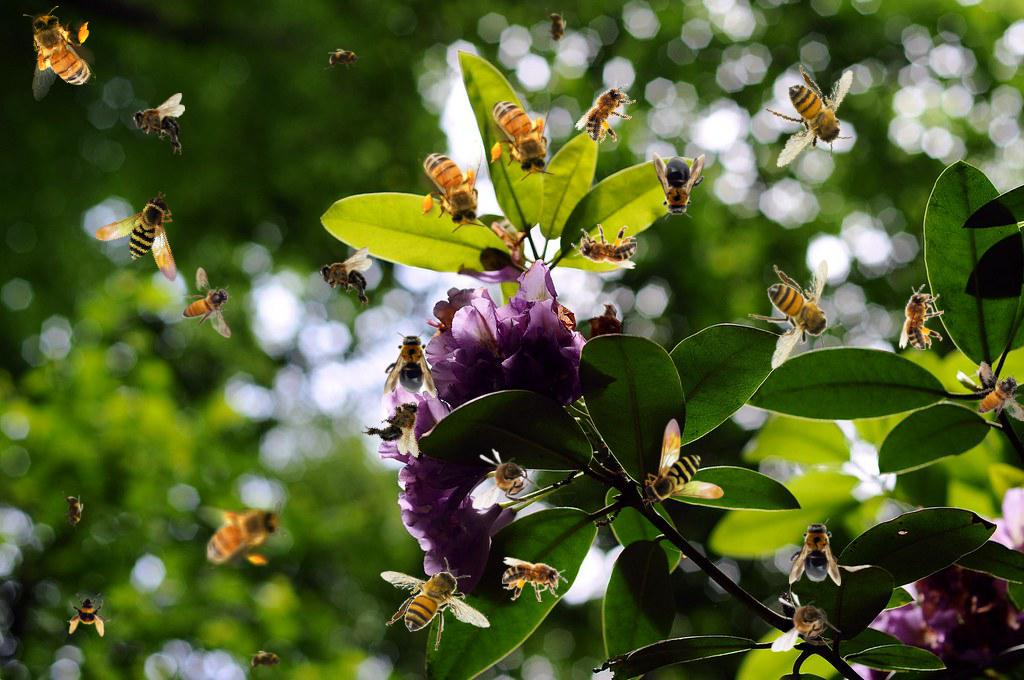Bee: (752, 53, 869, 183), (89, 189, 203, 305), (380, 557, 491, 651), (748, 259, 842, 370), (22, 3, 98, 102), (642, 418, 724, 506), (487, 88, 555, 181), (418, 140, 486, 233), (193, 501, 286, 569), (359, 387, 438, 461), (573, 71, 645, 152), (964, 352, 1024, 435), (771, 591, 841, 652), (472, 448, 542, 509), (182, 267, 232, 338), (384, 330, 436, 398), (653, 152, 705, 220), (789, 518, 841, 586), (132, 93, 185, 155), (319, 247, 372, 309), (899, 284, 944, 350), (571, 224, 637, 269), (502, 557, 568, 602), (67, 593, 111, 637), (246, 650, 286, 672), (545, 8, 567, 48), (324, 48, 364, 70), (62, 491, 84, 531)
